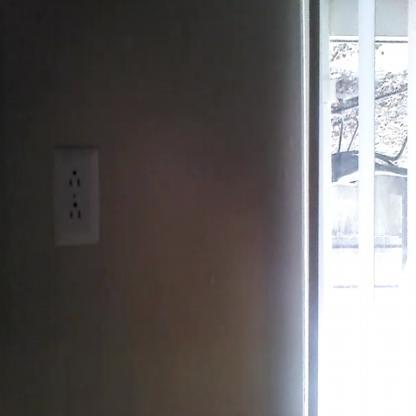OUTLET: (54, 148, 98, 245)
